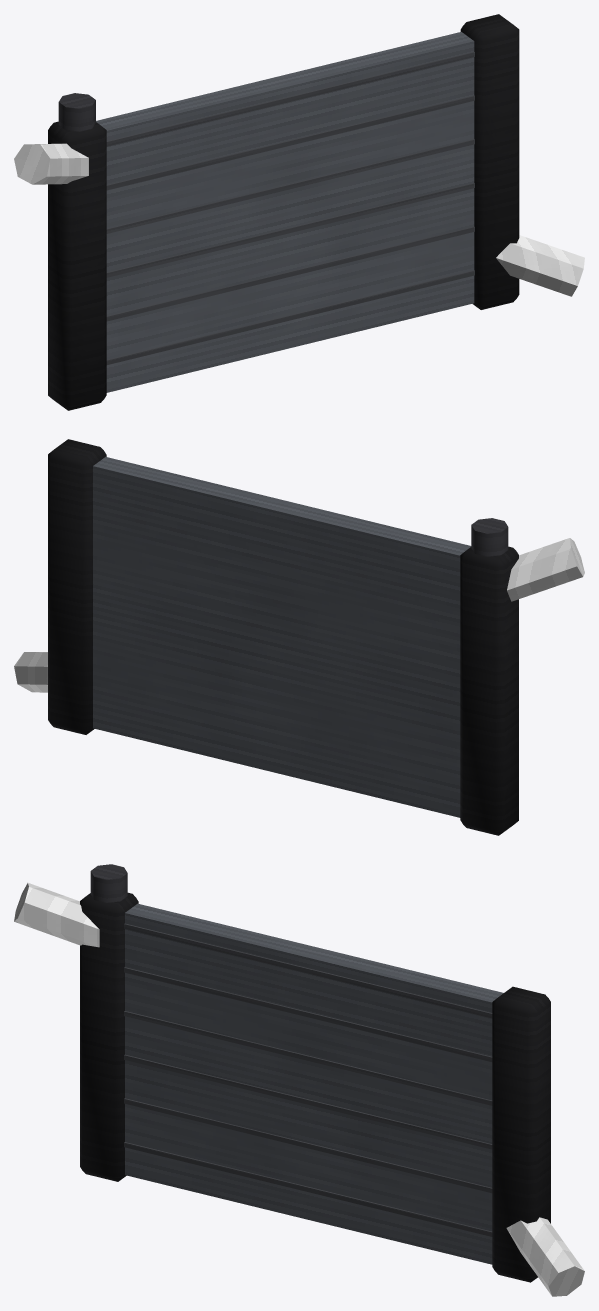
File: radiador_fabrica.glb
The picture shows the model from 3 angles, top to bottom: view 1: azimuth 30°, elevation 25°; view 2: azimuth 150°, elevation 25°; view 3: azimuth 330°, elevation 25°; orthographic projection.
Parts seen in each view (by area): view 1: radiador_fabrica; view 2: radiador_fabrica; view 3: radiador_fabrica.
Part boxes in pixels (bbox=[...]): radiador_fabrica: bbox=[14, 14, 584, 410]; radiador_fabrica: bbox=[14, 439, 584, 835]; radiador_fabrica: bbox=[14, 864, 584, 1296].
Size of the model in its own units: 0.7681 by 0.39 by 0.0969.
2 materials, 2 textured.
